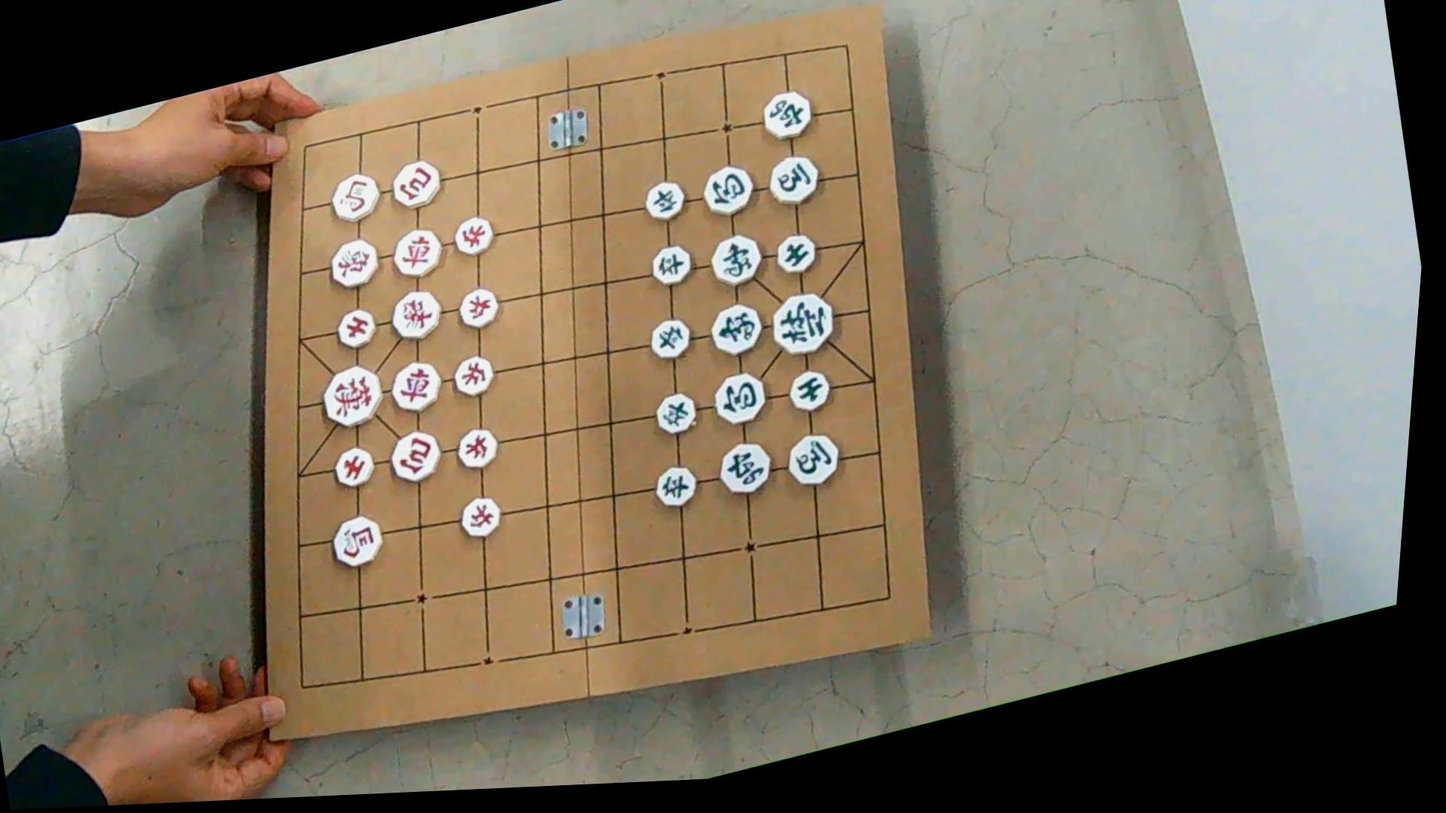cha_green: (714, 438, 776, 499), (758, 87, 818, 144)
cha_red: (386, 357, 447, 416), (388, 225, 447, 282)
jol_green: (650, 462, 700, 511), (651, 389, 700, 437), (648, 242, 696, 289), (646, 315, 694, 362), (641, 177, 689, 224)
jol_red: (450, 352, 499, 400), (457, 493, 505, 541), (453, 425, 502, 472), (455, 285, 502, 331), (450, 214, 496, 258)
ma_green: (783, 430, 845, 490), (764, 151, 825, 209)
ma_red: (328, 512, 388, 571), (326, 169, 384, 226)
po_green: (709, 368, 771, 428), (699, 160, 759, 221)
po_red: (386, 427, 445, 486), (387, 157, 446, 212)
sa_green: (785, 367, 834, 415), (773, 230, 820, 277)
sa_red: (330, 444, 378, 491), (333, 305, 380, 352)
sang_green: (706, 299, 768, 360), (706, 230, 767, 291)
sang_red: (386, 285, 446, 345), (325, 236, 383, 292)
wang_green: (764, 286, 840, 361)
wang_red: (317, 360, 389, 431)
